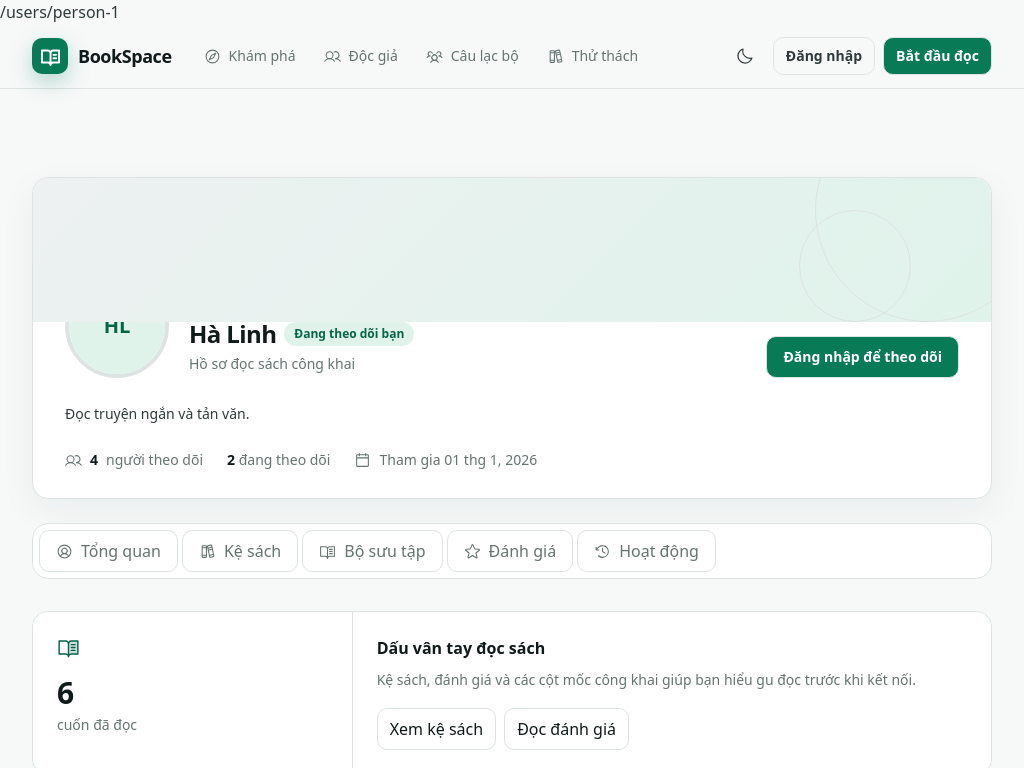
Test case: production public profile route › opens the follower list from the observable profile counter
Click the button "4 người theo dõi" at [134, 460], box [65, 450, 203, 470]
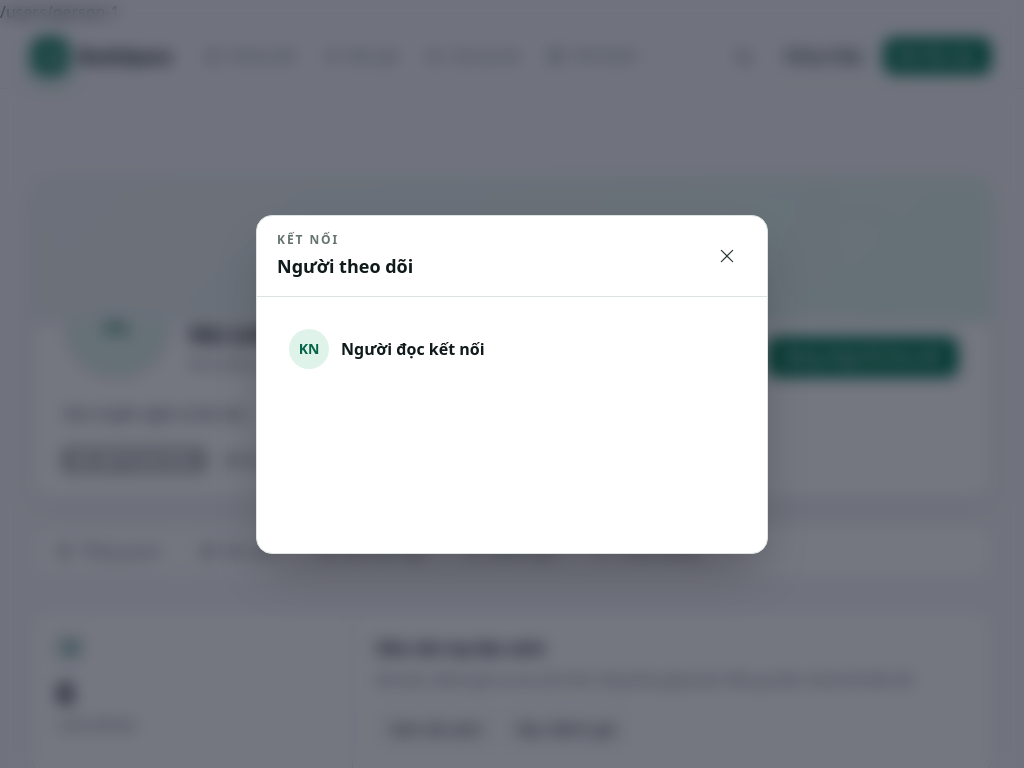
expect the dialog "Người theo dõi" is shown: met, box [256, 214, 768, 554]
